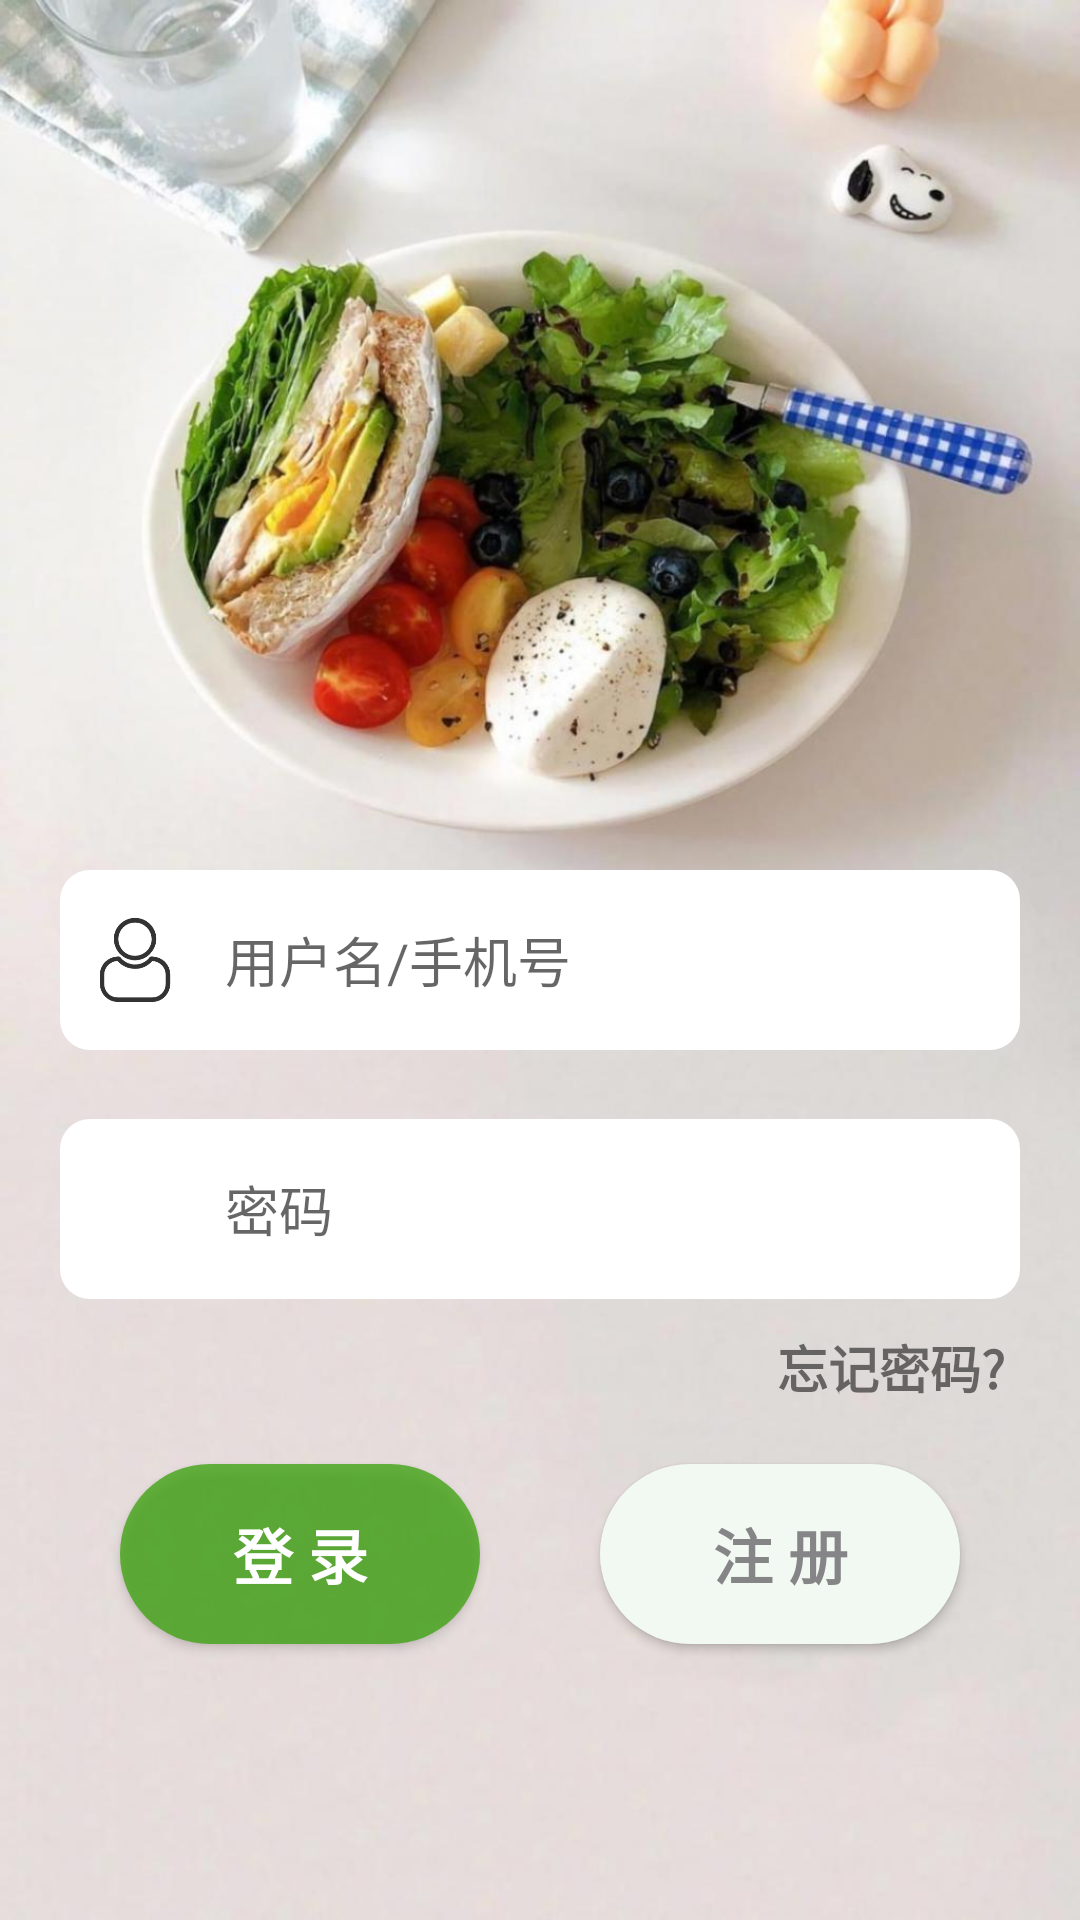

Icon click points for this 1080 × 1920 phone screenshot, format (x,y):
login usr: (135,960)
